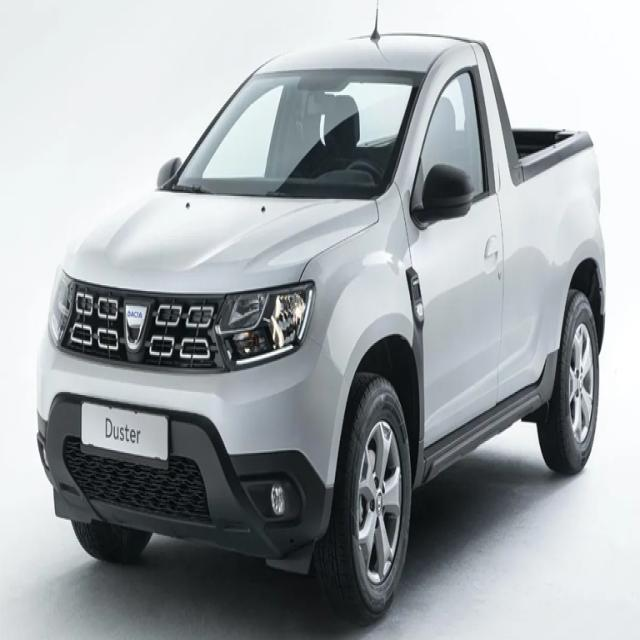Pickup Trucks: (37, 28, 608, 628)
